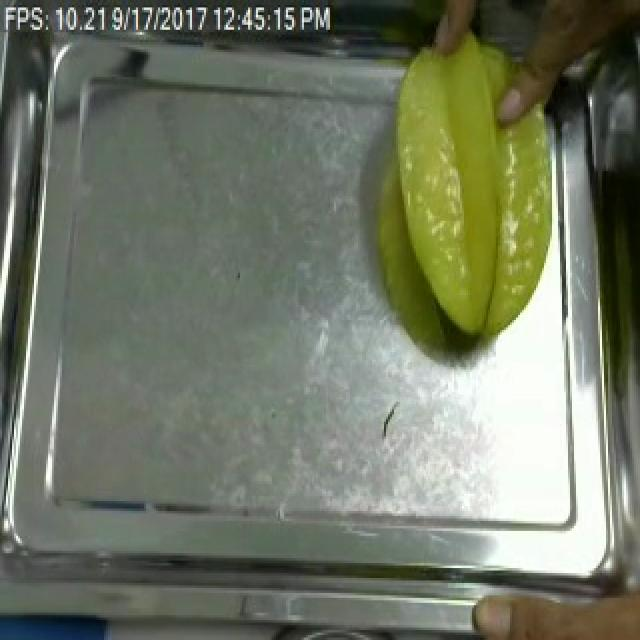fruit: (384, 22, 572, 352), (462, 565, 640, 640)
